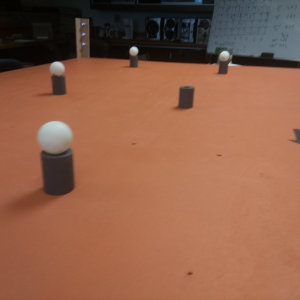corner: (73, 17, 92, 61)
obstacle: (37, 119, 78, 199), (49, 59, 68, 97), (175, 82, 198, 111), (215, 51, 232, 75), (128, 45, 142, 69)
start: (288, 126, 300, 143)
